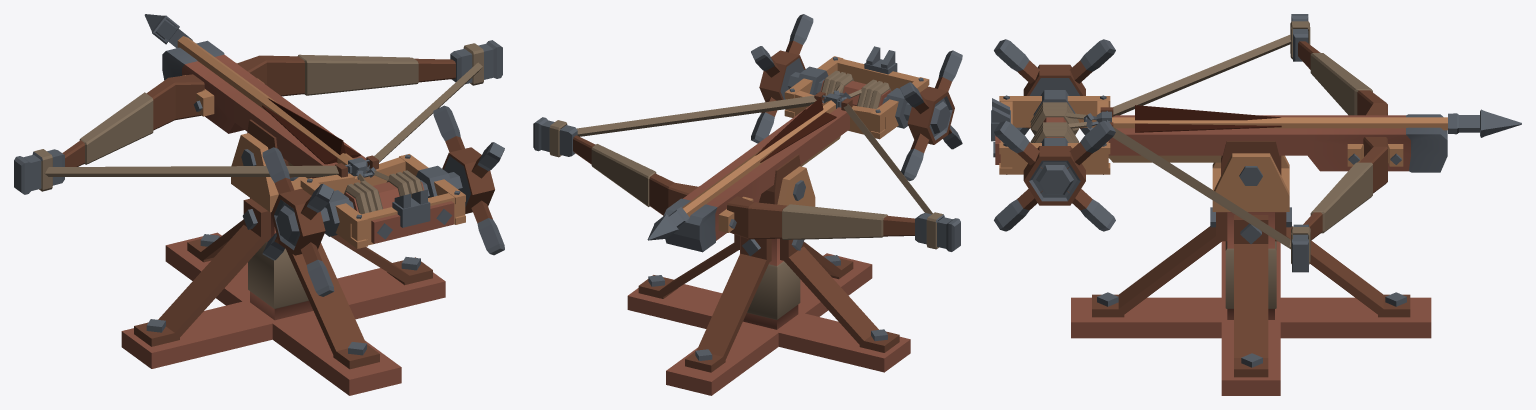
Rendered from ballista.fbx.
The picture shows the model from 3 angles, left to right: view 1: azimuth 30°, elevation 25°; view 2: azimuth 150°, elevation 25°; view 3: azimuth 270°, elevation 25°; orthographic projection. The views are drawn at different scales.
Visible parts, largest first — view 1: BottomPart, StaticTopParts, BackMechRoll, Arrow, LeftRope, RotateBody, RightRope, ArrowPivot; view 2: BottomPart, StaticTopParts, BackMechRoll, Arrow, RightRope, RotateBody, LeftRope; view 3: BottomPart, StaticTopParts, BackMechRoll, Arrow, RotateBody, LeftRope, RightRope.
Boxes of the visible parts, box(x1,y1,x2,y2) form: BottomPart: box(121, 198, 445, 395); StaticTopParts: box(14, 40, 502, 248); BackMechRoll: box(262, 105, 504, 296); Arrow: box(144, 14, 360, 165); LeftRope: box(39, 158, 338, 191); RotateBody: box(231, 119, 307, 212); RightRope: box(374, 62, 482, 162); ArrowPivot: box(335, 155, 378, 177); BottomPart: box(627, 234, 910, 395); StaticTopParts: box(533, 46, 960, 252); BackMechRoll: box(751, 14, 962, 181); Arrow: box(647, 97, 836, 240); RightRope: box(576, 95, 816, 136); RotateBody: box(759, 154, 815, 206); LeftRope: box(843, 104, 938, 249); BottomPart: box(1071, 207, 1431, 395); StaticTopParts: box(991, 14, 1447, 272); BackMechRoll: box(994, 39, 1115, 231); Arrow: box(1112, 105, 1521, 137); RotateBody: box(1212, 141, 1289, 211); LeftRope: box(1113, 26, 1310, 116); RightRope: box(1112, 126, 1290, 249).
Size of the model in its own units: 610 by 304 by 594.
